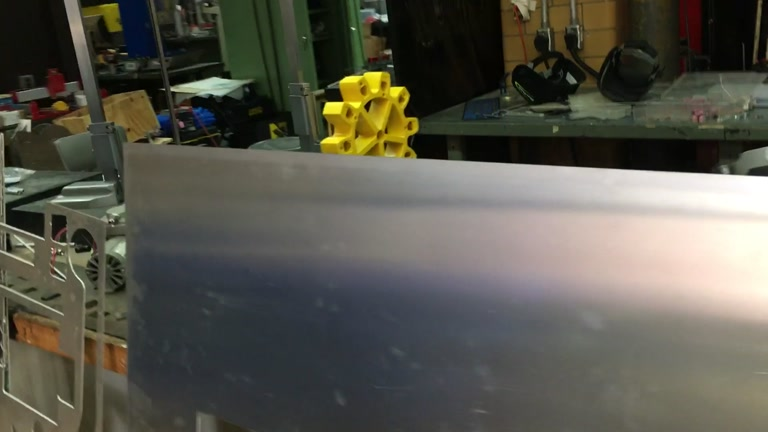gear: (319, 68, 421, 176)
